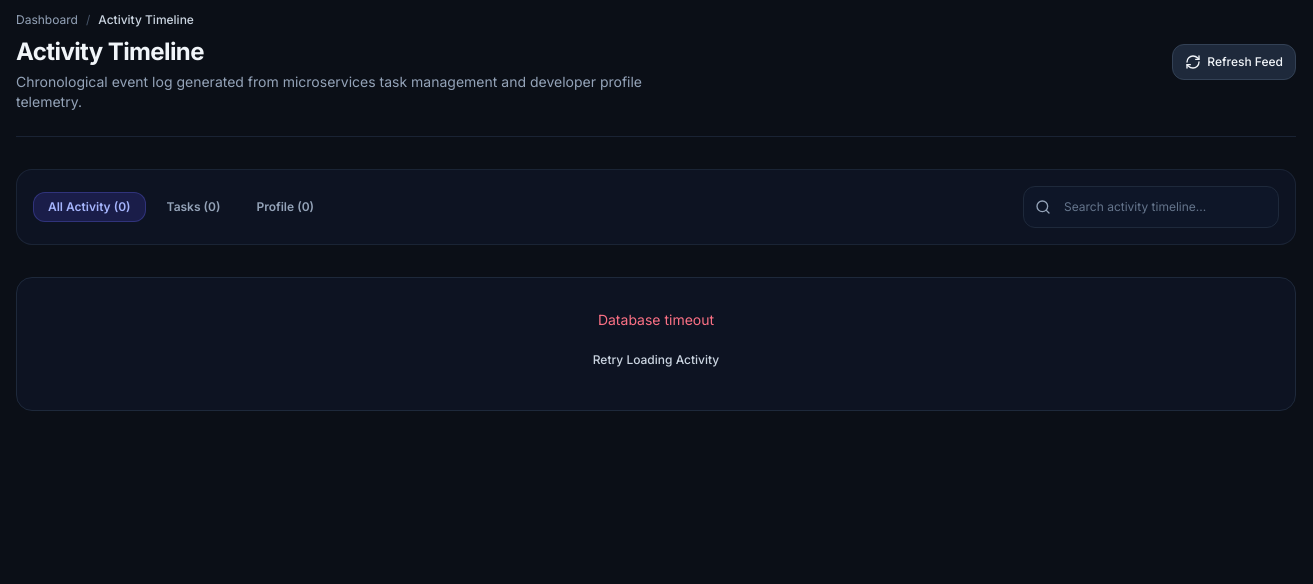
Test: ActivityPage › 20. Activity API errors are handled gracefully with retry option
Expected: the text "Database timeout" is shown, [598, 311, 714, 328]
Click the button "Retry Loading Activity".
click(656, 360)  # box [581, 342, 731, 378]
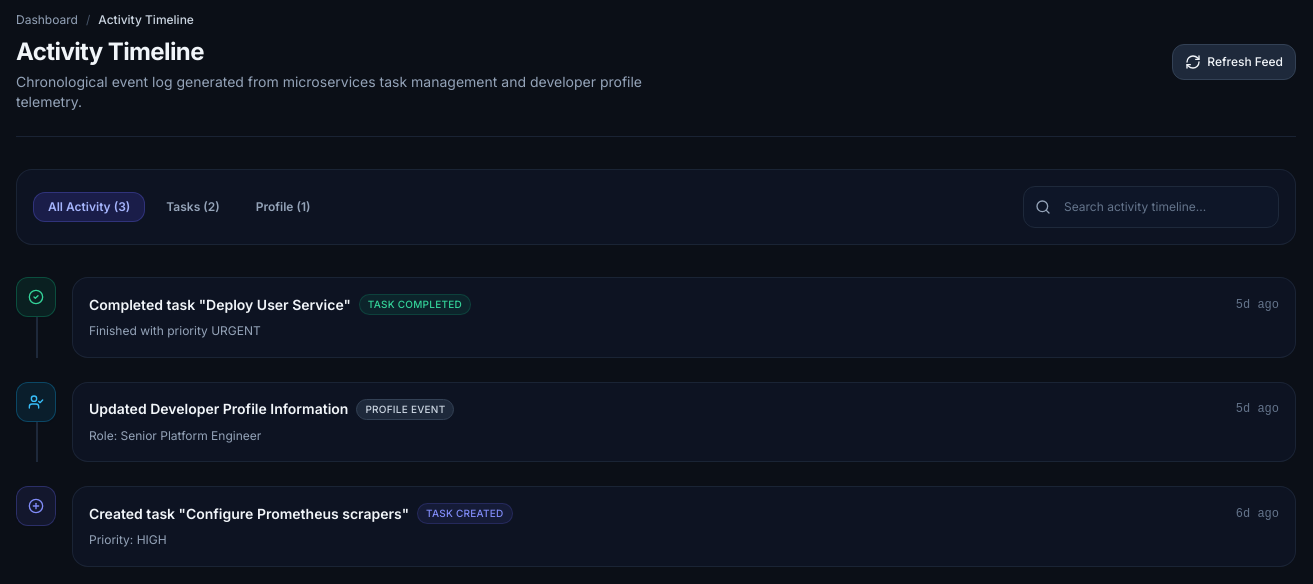
Result: the heading "Completed task \"Deploy User Service\"" is shown at [89, 294, 351, 314]
